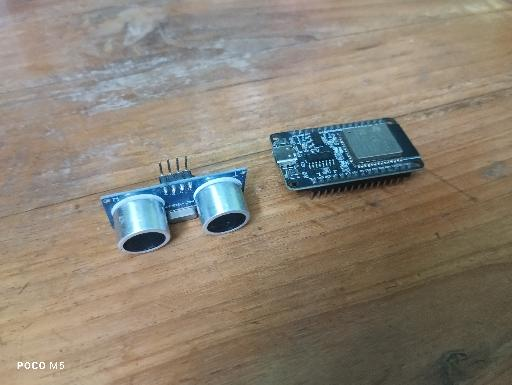Esp32: (269, 117, 424, 200)
sensor: (100, 156, 251, 256)
